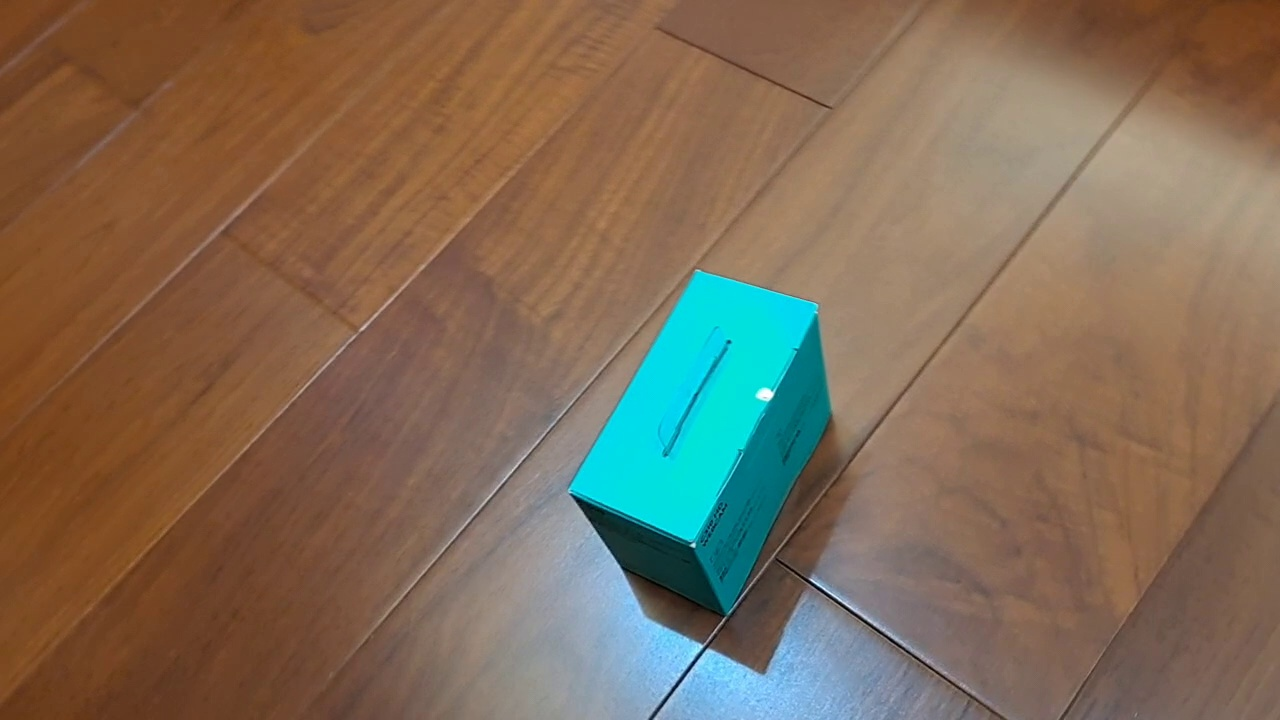webcam: (566, 267, 834, 619)
